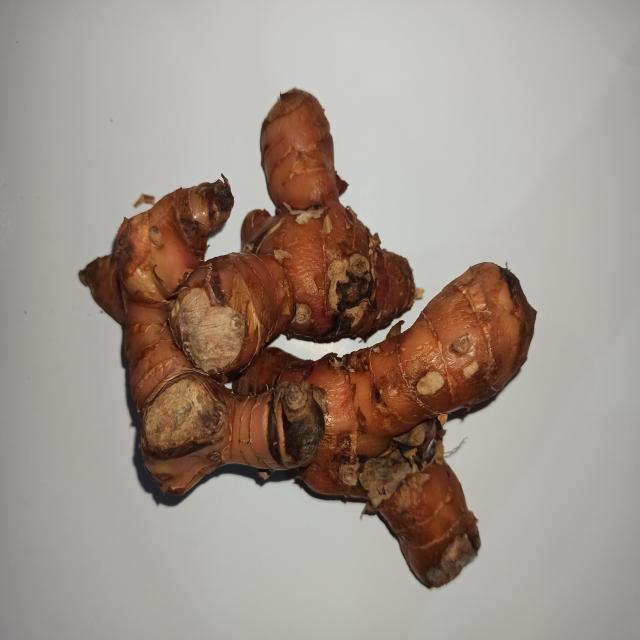ginger: (112, 93, 494, 556)
